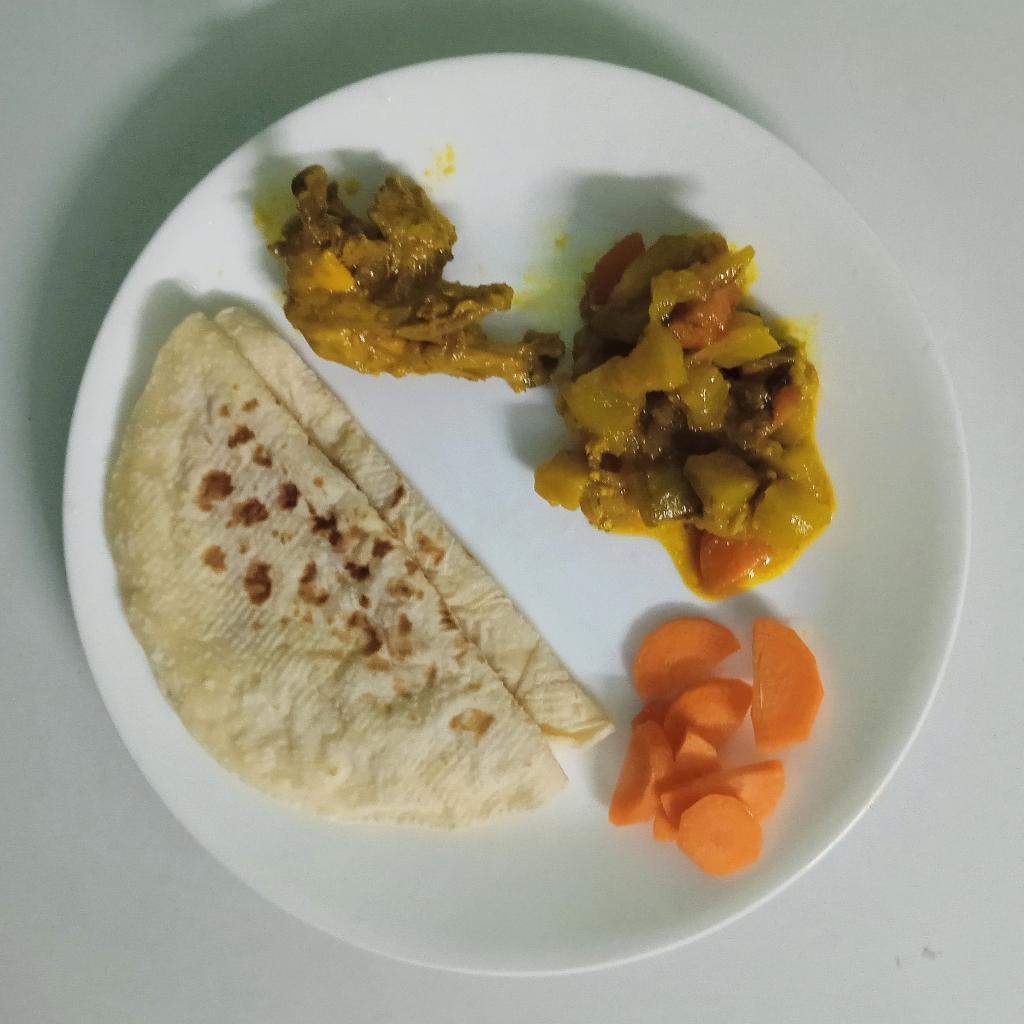carrot: (608, 616, 826, 874)
chicken: (277, 164, 568, 394)
ruti: (100, 303, 617, 827)
vegetable: (527, 229, 835, 599)
